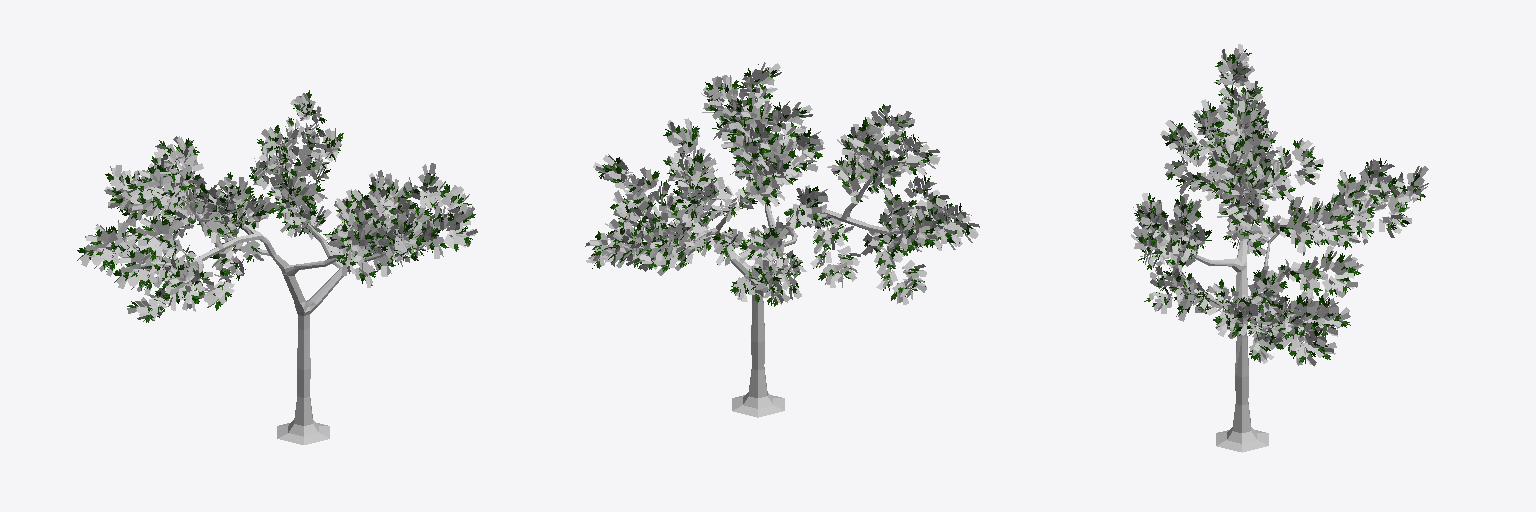
3 renders of one model, left to right at view 1: azimuth 30°, elevation 25°; view 2: azimuth 150°, elevation 25°; view 3: azimuth 270°, elevation 25°, orthographic.
Visible parts, largest first — view 1: tree_leaves, tree_stem; view 2: tree_leaves, tree_stem; view 3: tree_leaves, tree_stem.
Boxes of the visible parts, box(x1,y1,x2,y2) form: tree_leaves: box(77, 90, 477, 322); tree_stem: box(141, 194, 426, 444); tree_leaves: box(585, 62, 979, 306); tree_stem: box(633, 165, 921, 417); tree_leaves: box(1131, 44, 1428, 366); tree_stem: box(1184, 104, 1371, 452).
Bounding box in the file's own units: 49.71 × 41.41 × 33.07.
3 materials, 1 textured.